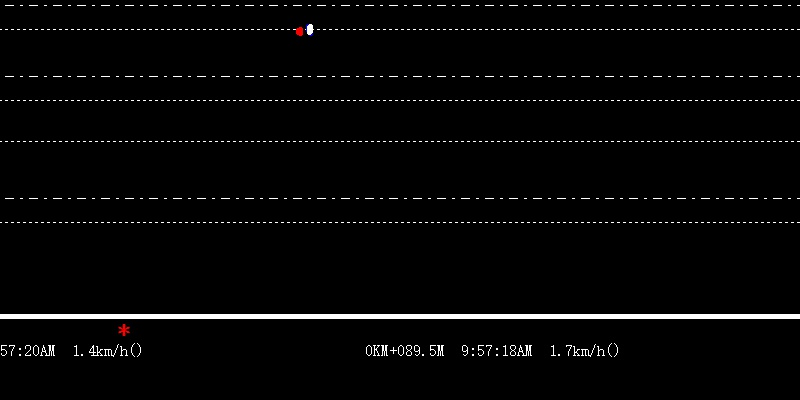face_1: (295, 24, 305, 37)
face_s: (305, 21, 314, 38)
star: (118, 321, 130, 338)
